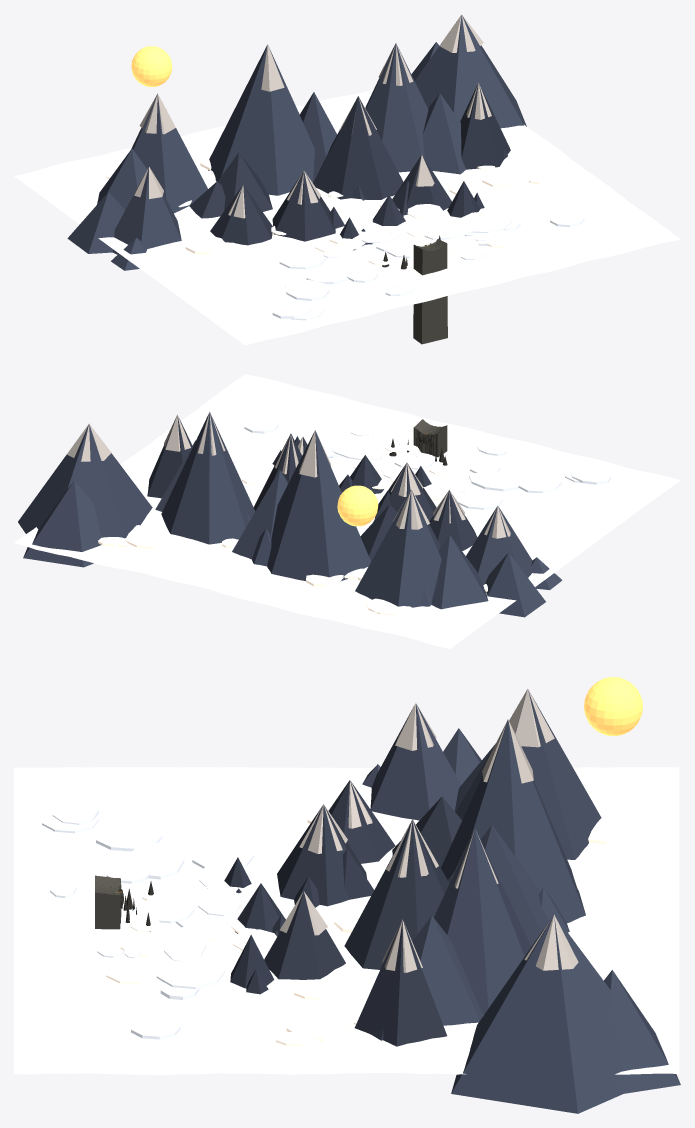
File: meditation-ledge.glb
3 views of the same model, one above another, from view 1: azimuth 30°, elevation 25°; view 2: azimuth 150°, elevation 25°; view 3: azimuth 270°, elevation 25° (orthographic). The views are drawn at different scales.
Parts seen in each view (by area): view 1: MERGED_M_Cloud, MERGED_M_PeakFar, MERGED_M_Peak, MERGED_M_CloudWarm, MERGED_M_Snow, MERGED_M_Granite, MERGED_E_Halo; view 2: MERGED_M_Cloud, MERGED_M_PeakFar, MERGED_M_Peak, MERGED_M_CloudWarm, MERGED_M_Snow, MERGED_E_Halo, MERGED_M_Granite; view 3: MERGED_M_Cloud, MERGED_M_PeakFar, MERGED_M_Peak, MERGED_M_CloudWarm, MERGED_M_Snow, MERGED_E_Halo, MERGED_M_Granite.
Part boxes in pixels (x1,y1,x2,y2): MERGED_M_Cloud: (14, 89, 680, 345); MERGED_M_PeakFar: (67, 15, 526, 270); MERGED_M_Peak: (189, 83, 510, 250); MERGED_M_CloudWarm: (106, 152, 547, 265); MERGED_M_Snow: (134, 14, 491, 218); MERGED_M_Granite: (413, 238, 447, 344); MERGED_E_Halo: (131, 46, 172, 86); MERGED_M_Cloud: (14, 374, 680, 648); MERGED_M_PeakFar: (18, 412, 562, 617); MERGED_M_Peak: (147, 416, 477, 561); MERGED_M_CloudWarm: (98, 426, 487, 615); MERGED_M_Snow: (67, 412, 510, 538); MERGED_E_Halo: (337, 485, 378, 526); MERGED_M_Granite: (413, 419, 447, 457); MERGED_M_Cloud: (14, 767, 679, 1074); MERGED_M_PeakFar: (362, 689, 680, 1113); MERGED_M_Peak: (224, 780, 461, 1046); MERGED_M_CloudWarm: (106, 803, 630, 1046); MERGED_M_Snow: (280, 688, 578, 972); MERGED_E_Halo: (584, 677, 642, 735); MERGED_M_Granite: (95, 875, 121, 929).
Bounding box in the file's own units: 2414 × 955 × 2025.
